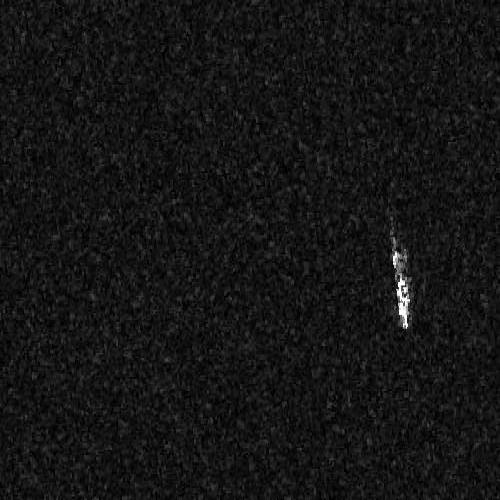ship: (390, 235, 411, 332)
